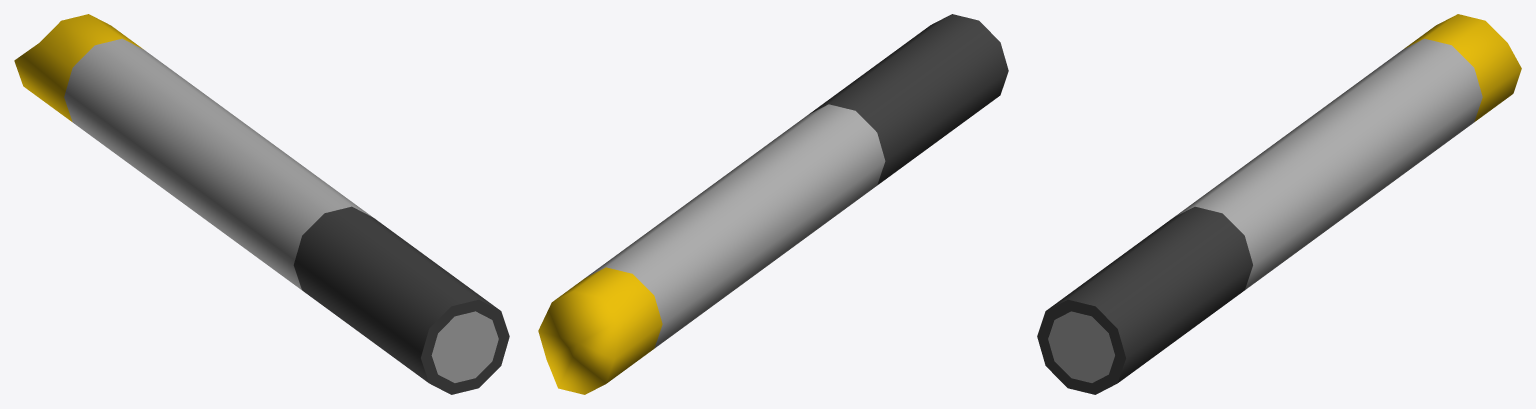
Rendered from M_Cigarette.fbx.
3 renders of one model, left to right at view 1: azimuth 30°, elevation 25°; view 2: azimuth 150°, elevation 25°; view 3: azimuth 330°, elevation 25°, orthographic. The views are drawn at different scales.
Visible parts, largest first — view 1: pCylinder1; view 2: pCylinder1; view 3: pCylinder1.
Boxes of the visible parts, x1,y1,x2,y2 form: pCylinder1: [14, 14, 509, 394]; pCylinder1: [538, 14, 1008, 394]; pCylinder1: [1037, 14, 1521, 394].
Bounding box in the file's own units: 1.01 × 7.96 × 0.9576.
